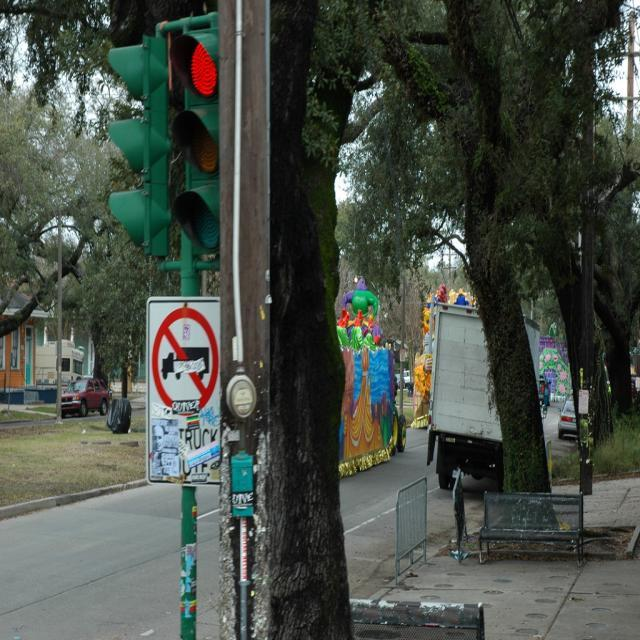off traffic light: (108, 41, 166, 240)
traffic light: (175, 15, 228, 253)
